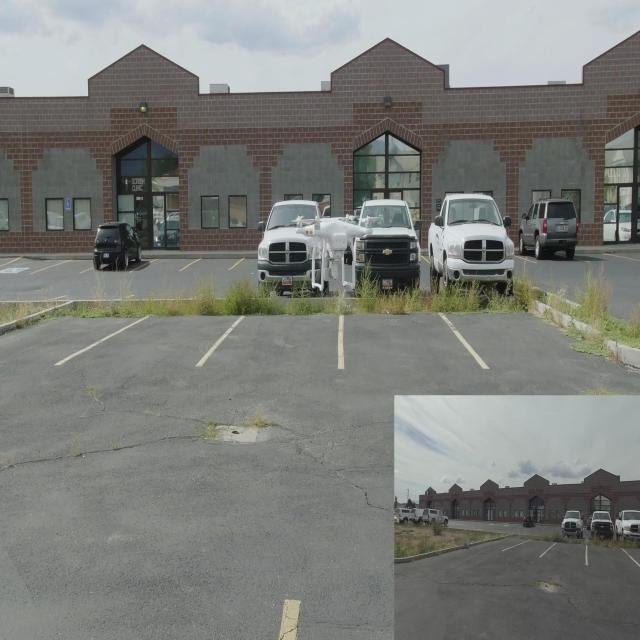drone: (294, 211, 376, 290)
